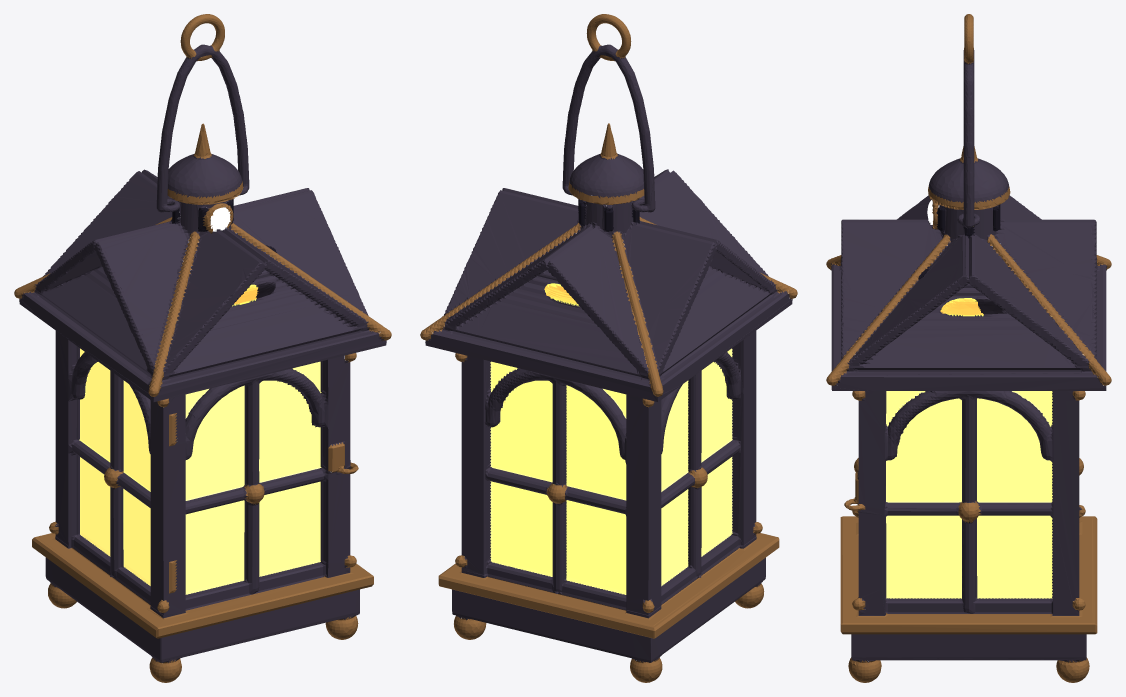
Rendered from lantern_hero.glb.
3 renders of one model, left to right at view 1: azimuth 30°, elevation 25°; view 2: azimuth 150°, elevation 25°; view 3: azimuth 270°, elevation 25°, orthographic. The views are drawn at different scales.
Parts seen in each view (by area): view 1: lantern_hero_lower, lantern_hero_roof, lantern_hero_bail; view 2: lantern_hero_lower, lantern_hero_roof, lantern_hero_bail; view 3: lantern_hero_lower, lantern_hero_roof, lantern_hero_bail.
Part boxes in pixels (x1,y1,x2,y2): lantern_hero_lower: [32, 287, 373, 682]; lantern_hero_roof: [14, 123, 391, 401]; lantern_hero_bail: [156, 14, 249, 212]; lantern_hero_lower: [438, 331, 779, 682]; lantern_hero_roof: [420, 123, 797, 401]; lantern_hero_bail: [562, 14, 655, 212]; lantern_hero_lower: [840, 291, 1097, 682]; lantern_hero_roof: [826, 146, 1111, 390]; lantern_hero_bail: [957, 14, 980, 228].
Bounding box in the file's own units: 0.412 × 0.9886 × 0.412.
